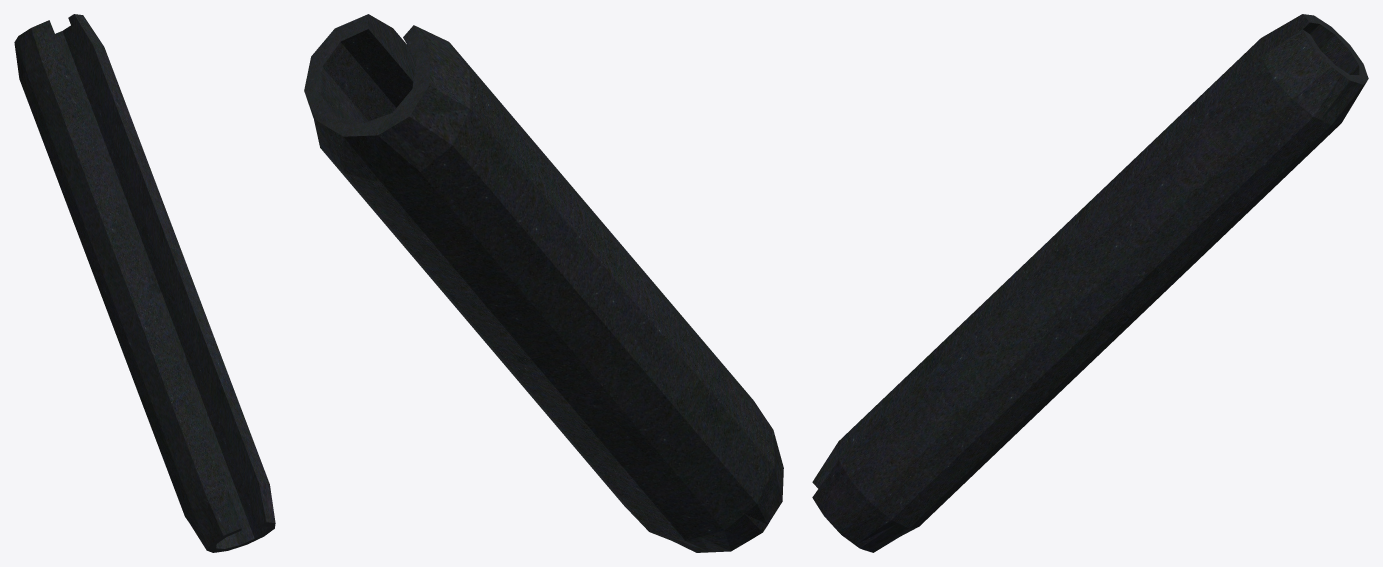
The model's file is Ejector_Spring_Pin.dae.
The picture shows the model from 3 angles, left to right: view 1: azimuth 30°, elevation 25°; view 2: azimuth 150°, elevation 25°; view 3: azimuth 270°, elevation 25°; orthographic projection. The views are drawn at different scales.
Parts seen in each view (by area): view 1: Ejector_Spring_Pin; view 2: Ejector_Spring_Pin; view 3: Ejector_Spring_Pin.
Part boxes in pixels (left/top/right/bottom): Ejector_Spring_Pin: left=14, top=14, right=275, bottom=552; Ejector_Spring_Pin: left=304, top=14, right=783, bottom=552; Ejector_Spring_Pin: left=812, top=14, right=1368, bottom=552.
Size of the model in its own units: 0.00151 by 0.00725 by 0.00756.
Materials: 1 (1 with a texture image).
